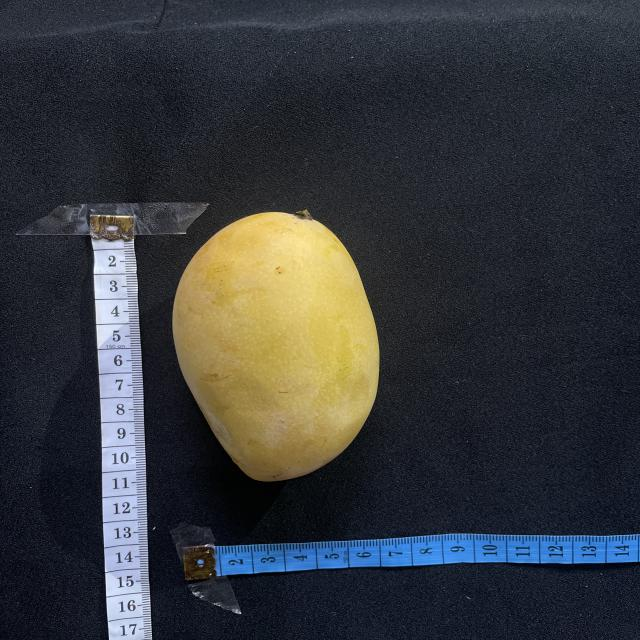Ripe: (172, 211, 379, 481)
